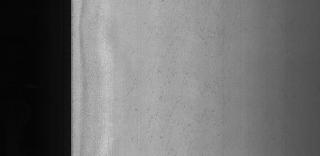silk spot: (137, 17, 223, 139)
